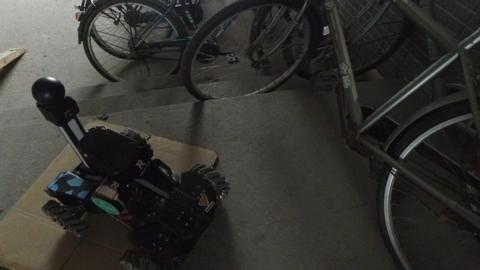chariot: (32, 75, 231, 266)
